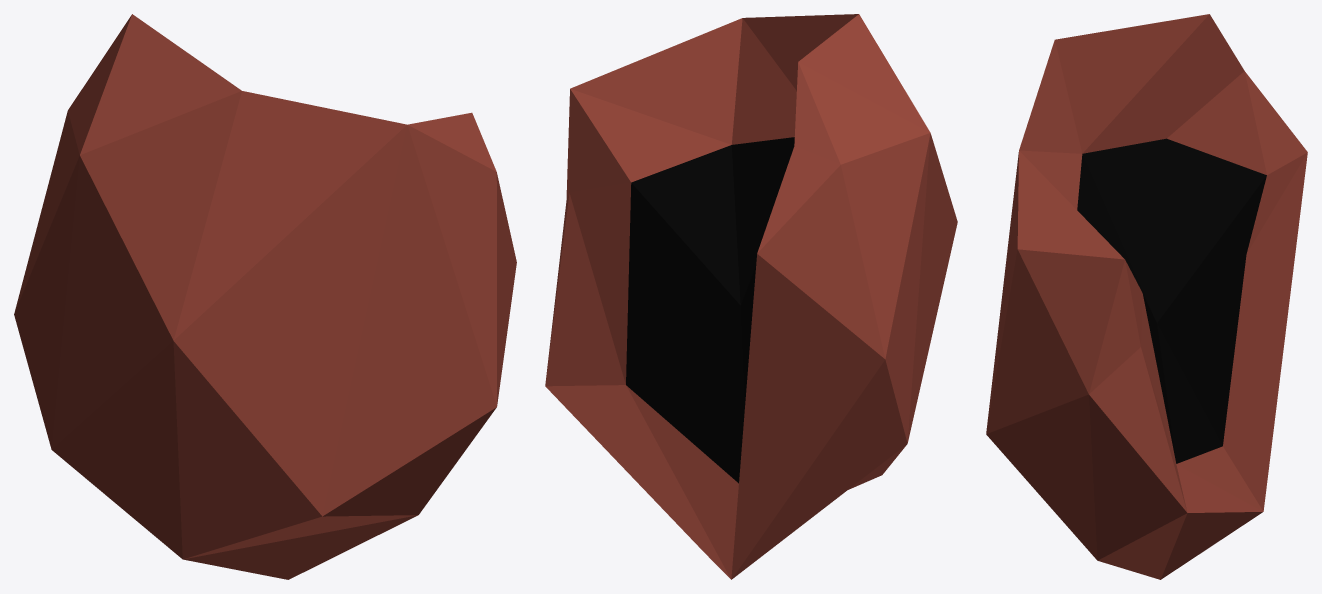
Rendered from pitted_cherry_2.fbx.
3 renders of one model, left to right at view 1: azimuth 30°, elevation 25°; view 2: azimuth 150°, elevation 25°; view 3: azimuth 270°, elevation 25°, orthographic. The views are drawn at different scales.
Parts seen in each view (by area): view 1: Cherry_fruit2; view 2: Cherry_fruit2; view 3: Cherry_fruit2.
Part boxes in pixels (bbox=[...]): Cherry_fruit2: bbox=[14, 14, 516, 579]; Cherry_fruit2: bbox=[545, 14, 957, 579]; Cherry_fruit2: bbox=[986, 14, 1307, 579].
Bounding box in the file's own units: 11.14 × 14.55 × 8.31.
